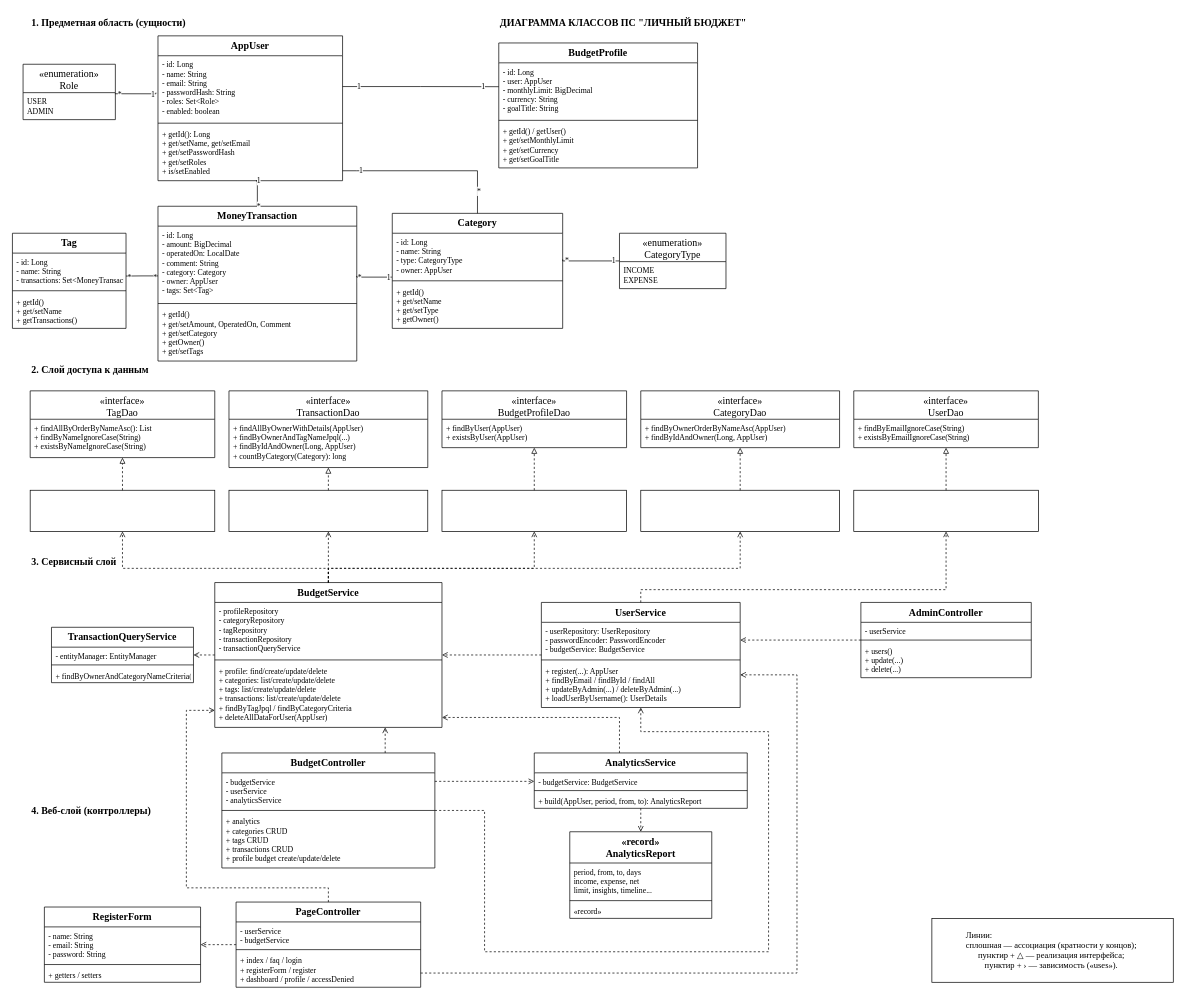
The diagram is 1186 pixels wide and 1001 high, and some of its shapes have lost their labels. Here are the shapes that lost their labels. From the top down, the centre of each, then its label:
At point 122,510: "«interface» TagRepository extends CrudRepository, TagDao".
At point 328,510: "«interface» TransactionRepository extends CrudRepository, TransactionDao".
At point 534,510: "«interface» BudgetProfileRepository extends CrudRepository, BudgetProfileDao".
At point 740,510: "«interface» CategoryRepository extends CrudRepository, CategoryDao".
At point 945,510: "«interface» UserRepository extends CrudRepository, UserDao".
